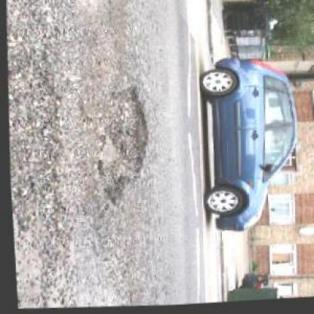Hueco: (87, 84, 153, 208)
